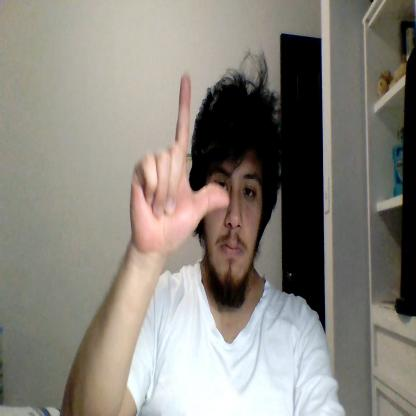L: (130, 74, 230, 254)
